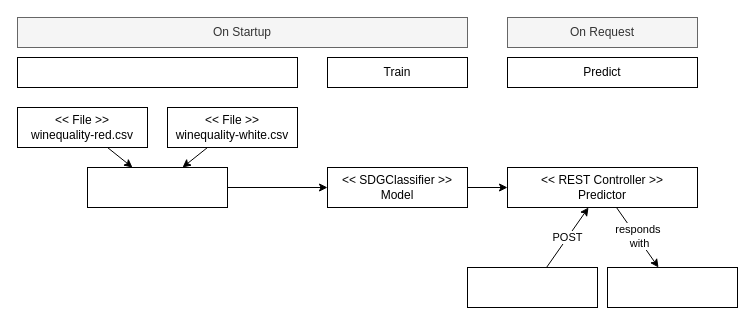
Some shapes in this 755 by 325 pixel diagram are drawn without their labels. Each missing label, with the centre of its shape:
<< Dataframe >> Winequality Dataset: the point at 157,187
<< JSON >> Predicted Wine Color: the point at 672,287
<< JSON >> Wine Quality Input: the point at 532,287
Ingest: the point at 157,72
